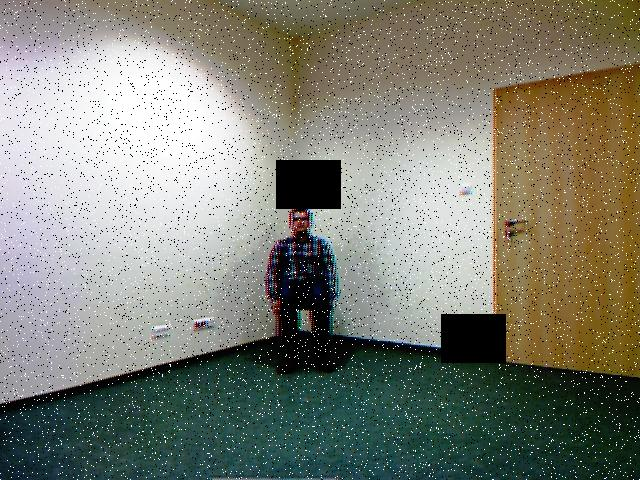sitting: (261, 191, 352, 380)
